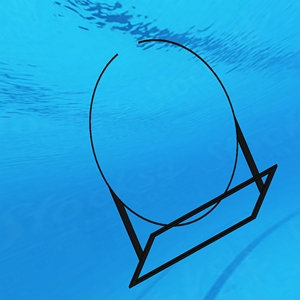circle: (85, 37, 279, 289)
